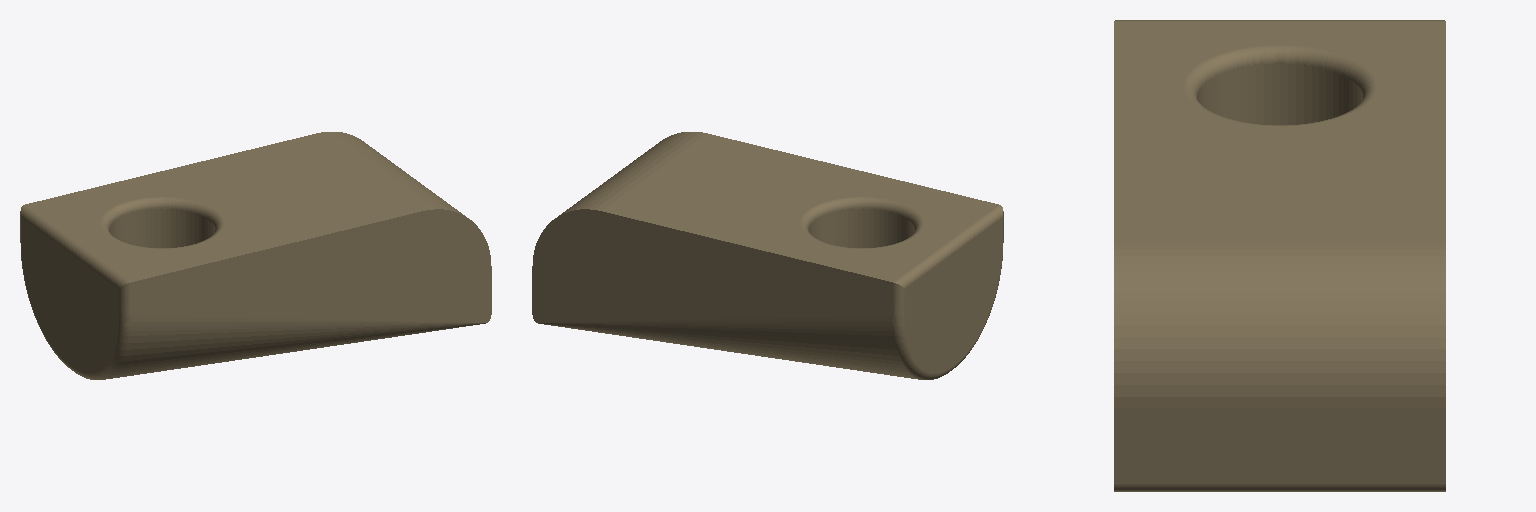
robot.urdf — Spoon:
<?xml version="1.0"?>
<robot name="Spoon">
  <link name="base_link">
    <visual>
      <origin xyz="0 0 0" rpy="0 0 0" />
      <geometry>
        <mesh filename="Spoon.obj"/>      
      </geometry>
      <material name="tan">
        <color rgba="0.55 0.5 0.4 1"/>
      </material>
    </visual>
    <collision>
      <origin xyz="0 0 0" rpy="0 0 0" />
      <geometry>
        <mesh filename="Spoon.obj"/>
      </geometry>
    </collision>
  </link>
</robot>

--- Render facts (derived) ---
3 views of the same robot in one strip: view 1: azimuth 30°, elevation 25°; view 2: azimuth 150°, elevation 25°; view 3: azimuth 270°, elevation 25° (orthographic).
Model Spoon with 1 links and 0 joints (none), rooted at base_link, posed all joints at 0.
Links seen in each view (by area): view 1: base_link; view 2: base_link; view 3: base_link.
Boxes of the visible links, <box> form: base_link: <box>20,132,491,379</box>; base_link: <box>532,132,1003,379</box>; base_link: <box>1114,20,1445,491</box>.
Size in the robot's own frame: 38.1 by 19.05 by 12.7 metres.
1 mesh visuals loaded from 1 distinct referenced files (1 OBJ).
